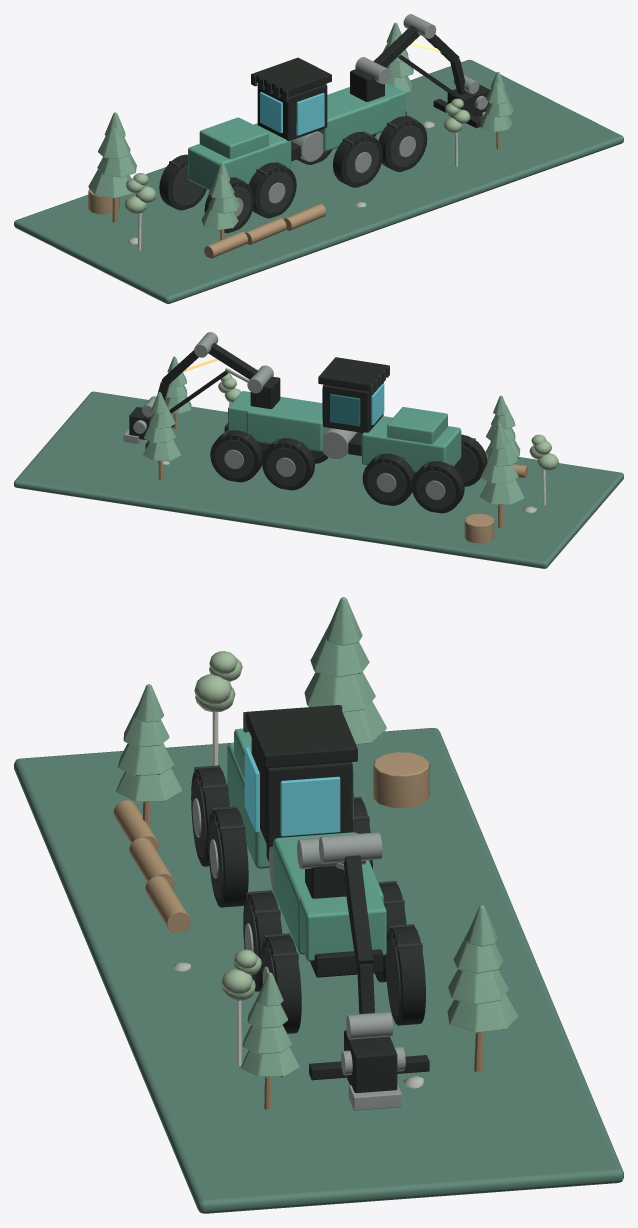
The model's file is dasa-forestry.glb.
3 views of the same model, one above another, from view 1: azimuth 30°, elevation 25°; view 2: azimuth 150°, elevation 25°; view 3: azimuth 270°, elevation 25° (orthographic). The views are drawn at different scales.
Parts seen in each view (by area): view 1: LM_Dasa_ForestGround, LM_Dasa_RearEngineBody, LM_Dasa_FrontBody, LM_Dasa_RearEngineHood, LM_Dasa_CabinRoof, LM_Dasa_CabinFrame, LM_Dasa_Tire_Left_2, LM_Dasa_CabinAngledWindshield, LM_Dasa_Tire_Left_3, LM_Dasa_Tire_Left_1, LM_Dasa_Tire_Right_0, LM_Dasa_TireSidewall_Left_2 (+23 smaller); view 2: LM_Dasa_ForestGround, LM_Dasa_FrontBody, LM_Dasa_RearEngineBody, LM_Dasa_RearEngineHood, LM_Dasa_CabinRoof, LM_Dasa_CabinFrame, LM_Dasa_Tire_Right_2, LM_Dasa_Tire_Right_0, LM_Dasa_Tire_Right_3, LM_Dasa_TireSidewall_Right_1, LM_Dasa_TireSidewall_Right_3, LM_Dasa_Tire_Right_1 (+21 smaller); view 3: LM_Dasa_ForestGround, LM_Dasa_CabinRoof, LM_Dasa_FrontBody_AngledNose, LM_Dasa_CabinFrame, LM_Dasa_CabinSideGlass_Right, LM_Dasa_FrontBody, LM_Dasa_Stump, LM_Dasa_HarvesterHead_Frame, LM_Dasa_Tire_Right_3, LM_Dasa_Tire_Left_1, LM_Dasa_Tire_Left_3, LM_Dasa_Pine_0_Foliage_MidA (+30 smaller).
Part boxes in pixels (<box>): LM_Dasa_ForestGround: <box>14,59,623,303</box>; LM_Dasa_RearEngineBody: <box>188,123,291,190</box>; LM_Dasa_FrontBody: <box>318,87,389,151</box>; LM_Dasa_RearEngineHood: <box>199,117,268,159</box>; LM_Dasa_CabinRoof: <box>253,57,331,96</box>; LM_Dasa_CabinFrame: <box>257,83,327,140</box>; LM_Dasa_Tire_Left_2: <box>333,132,382,187</box>; LM_Dasa_CabinAngledWindshield: <box>296,93,324,135</box>; LM_Dasa_Tire_Left_3: <box>378,116,427,171</box>; LM_Dasa_Tire_Left_1: <box>248,162,296,218</box>; LM_Dasa_Tire_Right_0: <box>159,154,206,210</box>; LM_Dasa_TireSidewall_Left_2: <box>345,141,379,182</box>; LM_Dasa_ForestGround: <box>14,391,623,568</box>; LM_Dasa_FrontBody: <box>246,396,328,451</box>; LM_Dasa_RearEngineBody: <box>361,416,461,472</box>; LM_Dasa_RearEngineHood: <box>387,407,447,444</box>; LM_Dasa_CabinRoof: <box>318,357,387,391</box>; LM_Dasa_CabinFrame: <box>322,382,383,432</box>; LM_Dasa_Tire_Right_2: <box>262,438,314,490</box>; LM_Dasa_Tire_Right_0: <box>411,461,464,513</box>; LM_Dasa_Tire_Right_3: <box>210,430,262,482</box>; LM_Dasa_TireSidewall_Right_1: <box>367,463,406,501</box>; LM_Dasa_TireSidewall_Right_3: <box>214,440,254,478</box>; LM_Dasa_Tire_Right_1: <box>362,453,414,505</box>; LM_Dasa_ForestGround: <box>14,728,623,1213</box>; LM_Dasa_CabinRoof: <box>246,705,357,768</box>; LM_Dasa_FrontBody_AngledNose: <box>299,892,386,961</box>; LM_Dasa_CabinFrame: <box>251,738,352,846</box>; LM_Dasa_CabinSideGlass_Right: <box>280,776,340,836</box>; LM_Dasa_FrontBody: <box>273,832,383,954</box>; LM_Dasa_Stump: <box>373,752,429,808</box>; LM_Dasa_HarvesterHead_Frame: <box>344,1030,397,1092</box>; LM_Dasa_Tire_Right_3: <box>385,926,425,1025</box>; LM_Dasa_Tire_Left_1: <box>208,808,248,907</box>; LM_Dasa_Tire_Left_3: <box>261,935,301,1033</box>; LM_Dasa_Pine_0_Foliage_MidA: <box>304,672,375,712</box>.
Size of the model in its own units: 2.06 by 0.4808 by 1.12.
